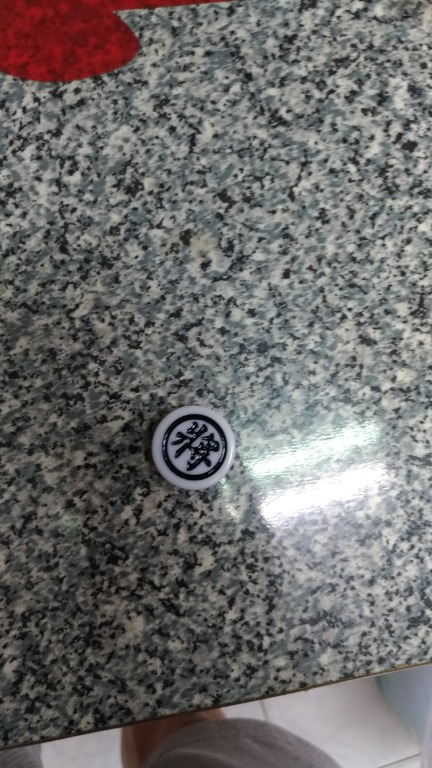b-king: (130, 399, 255, 500)
